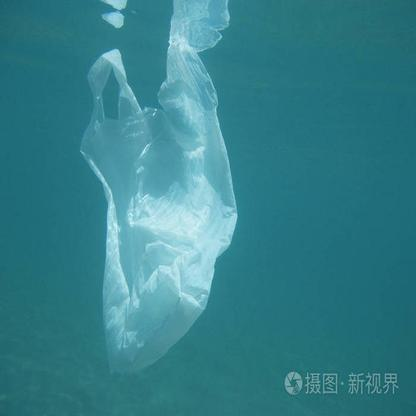plastic bag: (77, 1, 238, 376)
